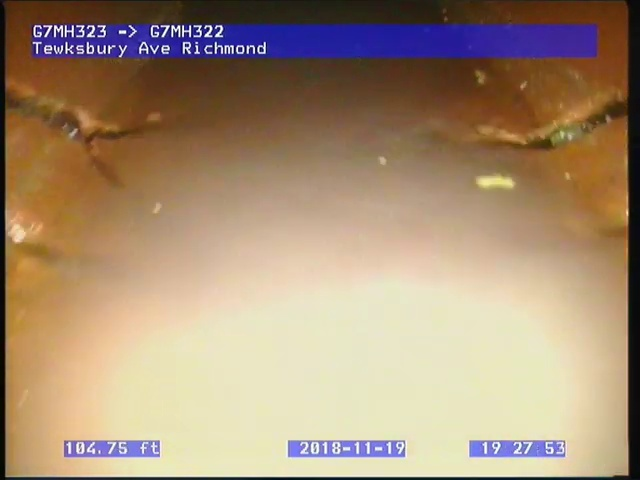crack: (8, 77, 172, 192), (487, 92, 628, 154)
